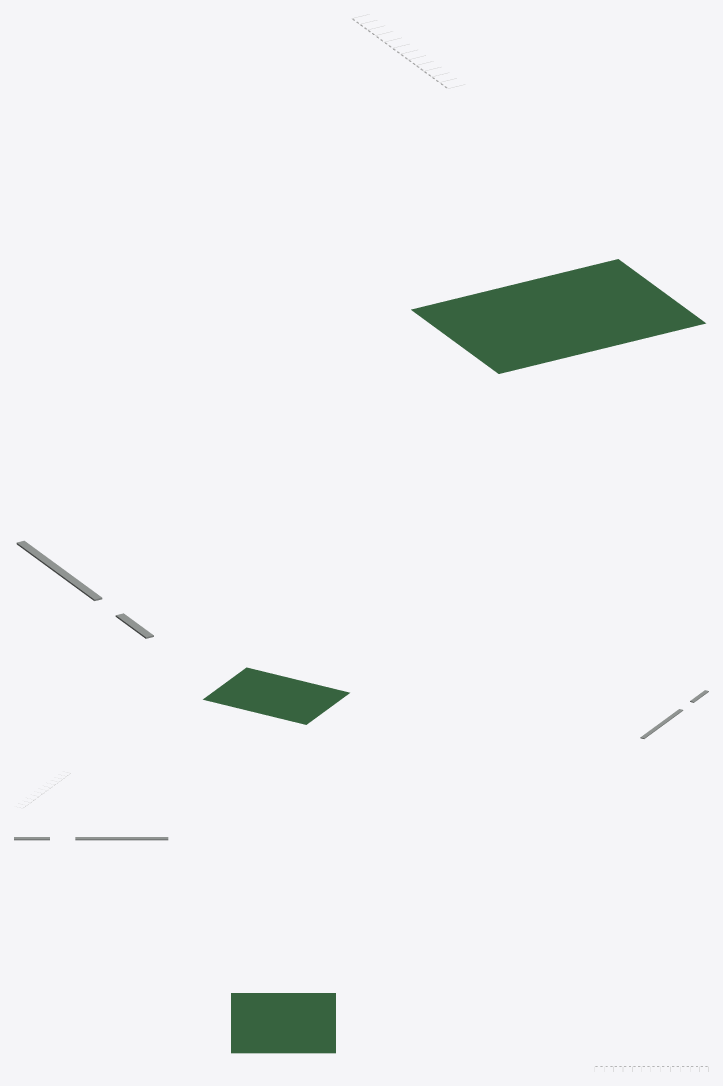
Rendered from repair 1.fbx.
3 views of the same model, one above another, from view 1: azimuth 30°, elevation 25°; view 2: azimuth 150°, elevation 25°; view 3: azimuth 270°, elevation 25° (orthographic). The views are drawn at different scales.
Visible parts, largest first — view 1: Plane.179; view 2: Plane.179; view 3: Plane.179.
Part boxes in pixels (left/top/right/bottom): Plane.179: left=411, top=259, right=705, bottom=373; Plane.179: left=203, top=667, right=349, bottom=724; Plane.179: left=231, top=993, right=335, bottom=1053.
Size of the model in its own units: 524 by 1.12 by 656.
